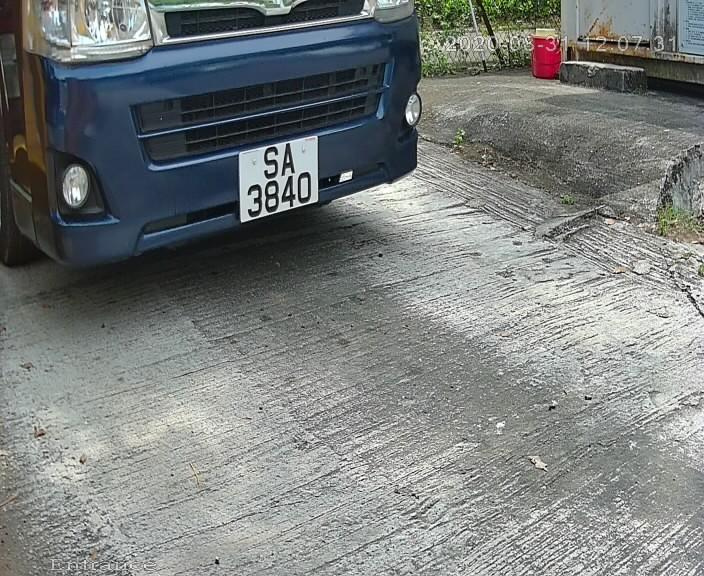License Plate: (227, 127, 331, 229)
